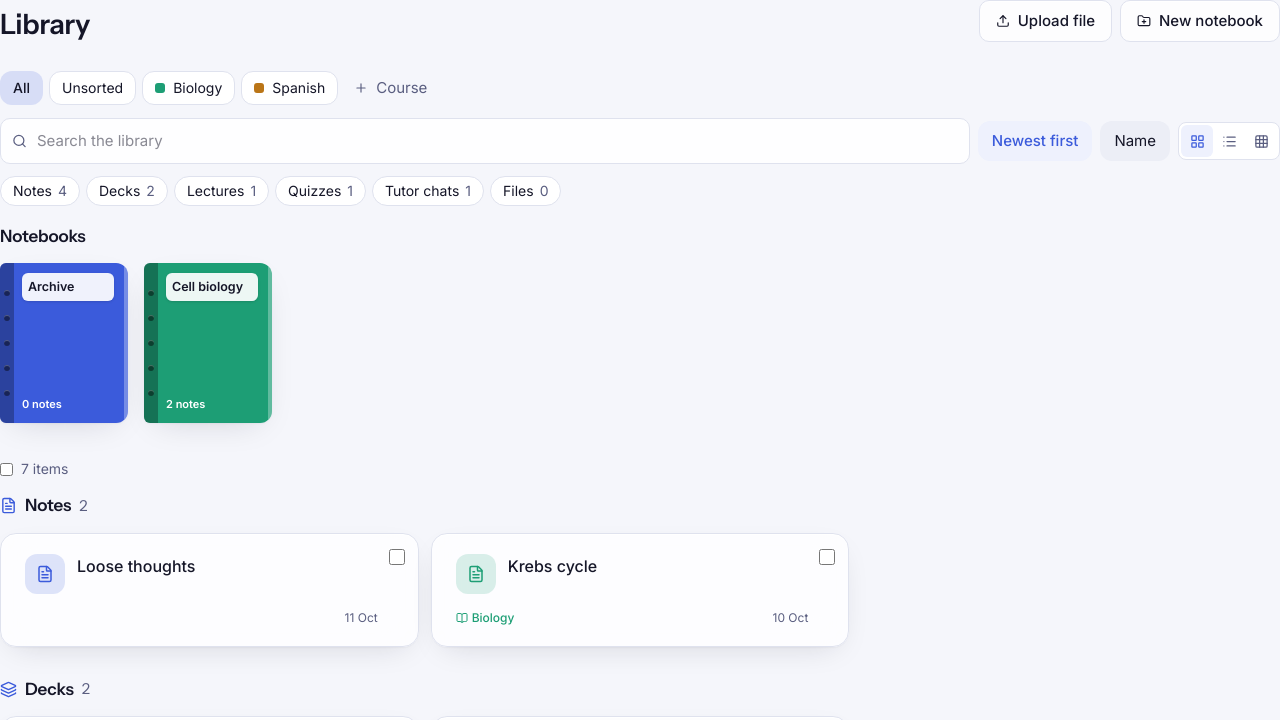
Test case: Library › notebooks are folders › makes a new notebook from the Library
The width and height of the screenshot is (1280, 720).
Click the button "New notebook" at (1200, 21), box left=1120, top=0, right=1279, bottom=42
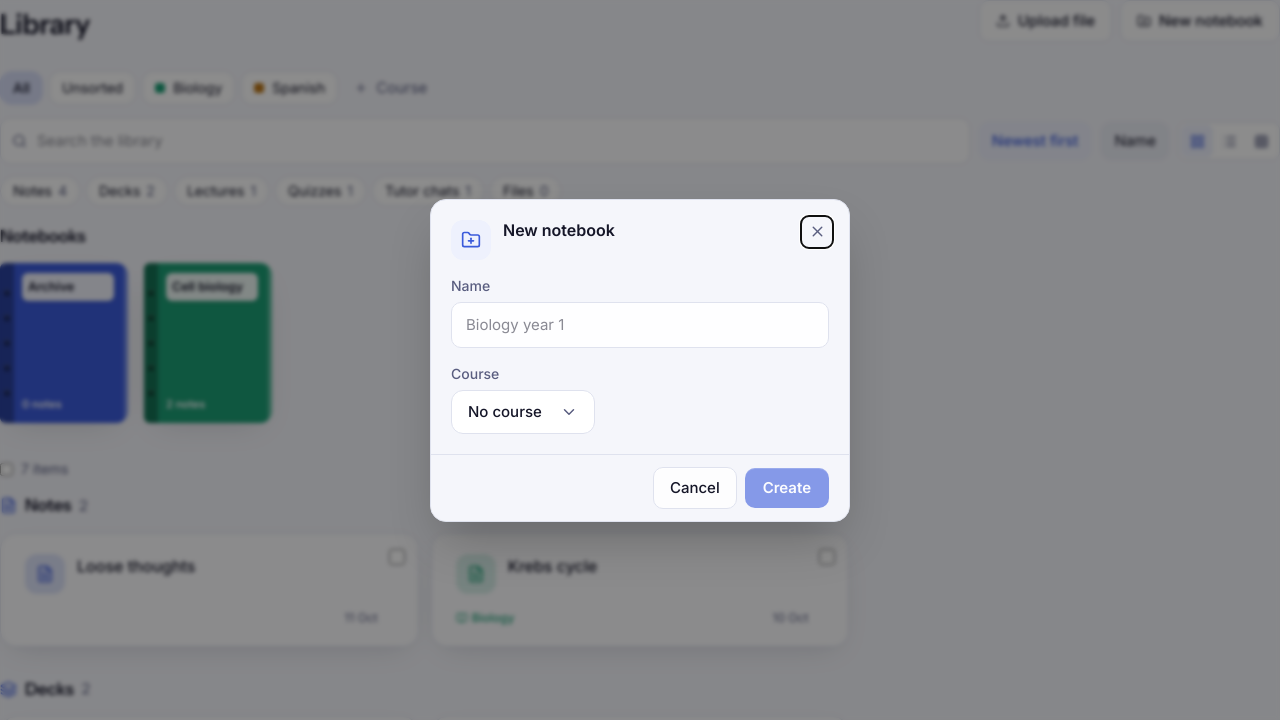
Type "Genetics" into the field labelled "Name" at (640, 324), box left=451, top=302, right=829, bottom=348
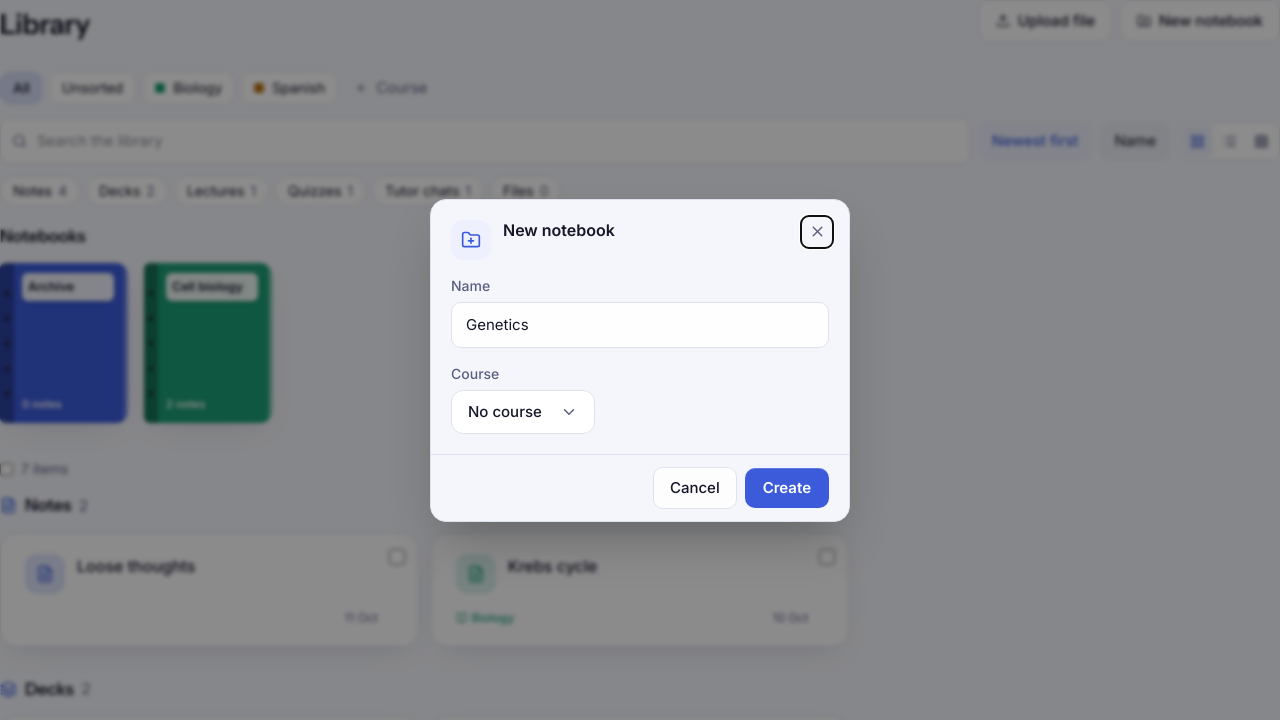
Click the button "Create" at (787, 488), box left=745, top=468, right=829, bottom=508
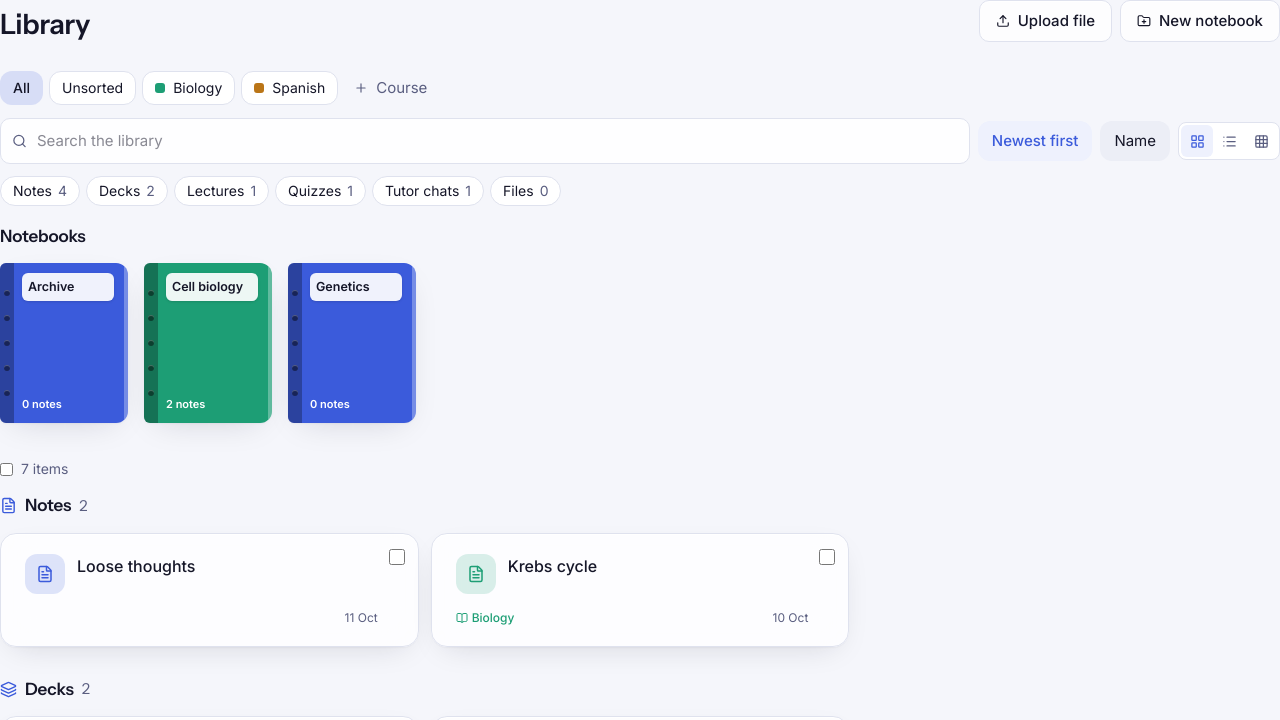
Expected: the link with aria-label "Open Genetics, 0 notes" is shown, left=288, top=263, right=416, bottom=423
